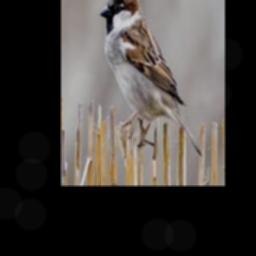Sparrow: (99, 0, 202, 156)
